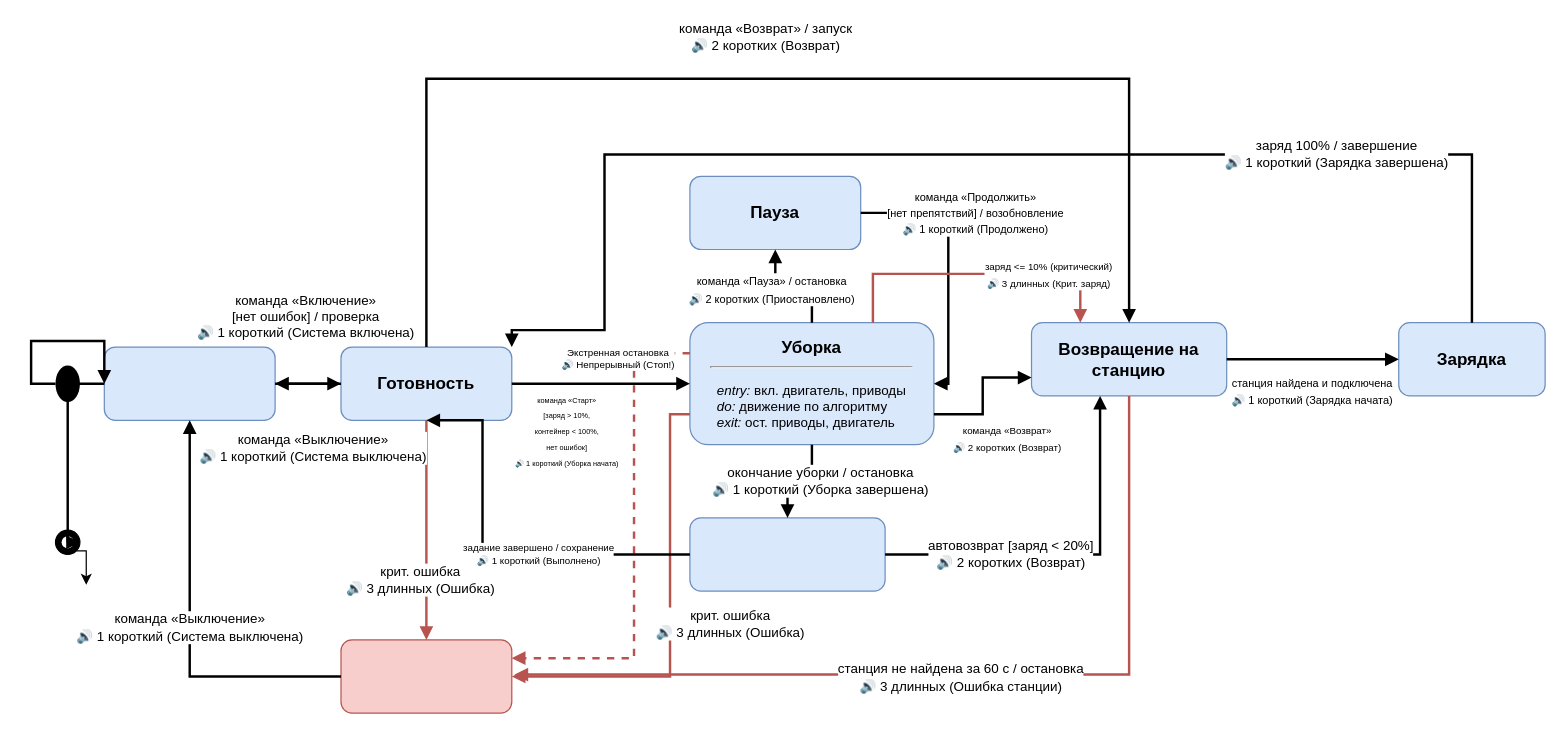
Image size: 1566x744. Some labels were removed from this diagram. Each missing label, with the centre of its shape:
Выключено: the point at 189,383
Завершение задания: the point at 787,554
Ошибка: the point at 426,676
